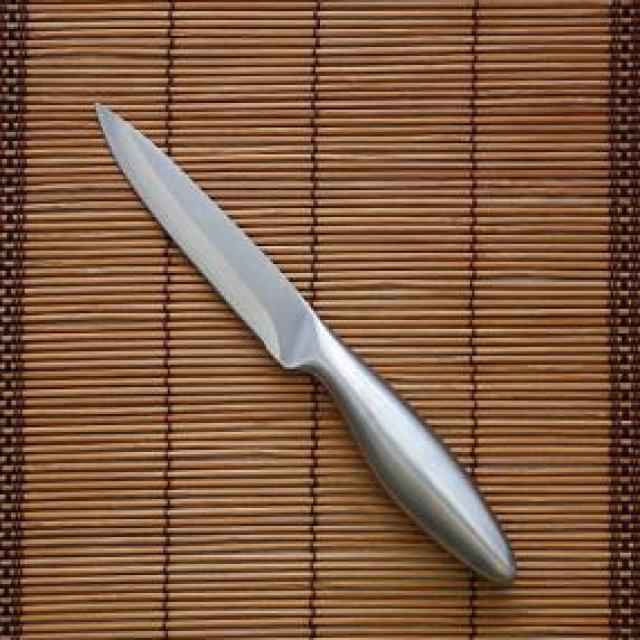knife: (92, 101, 514, 585)
